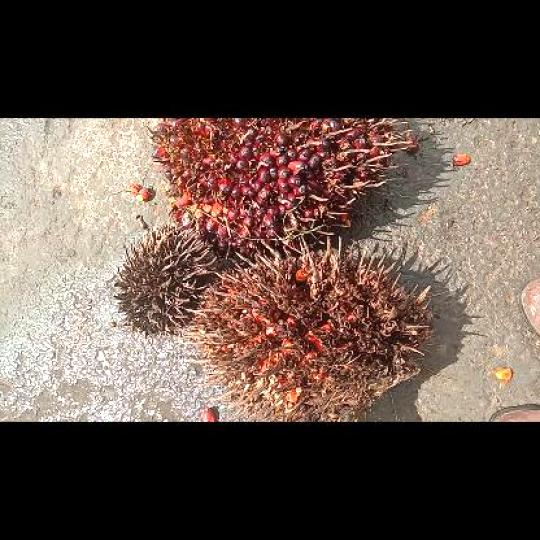masak: (149, 119, 412, 250)
terlalu masak: (186, 236, 434, 421)
